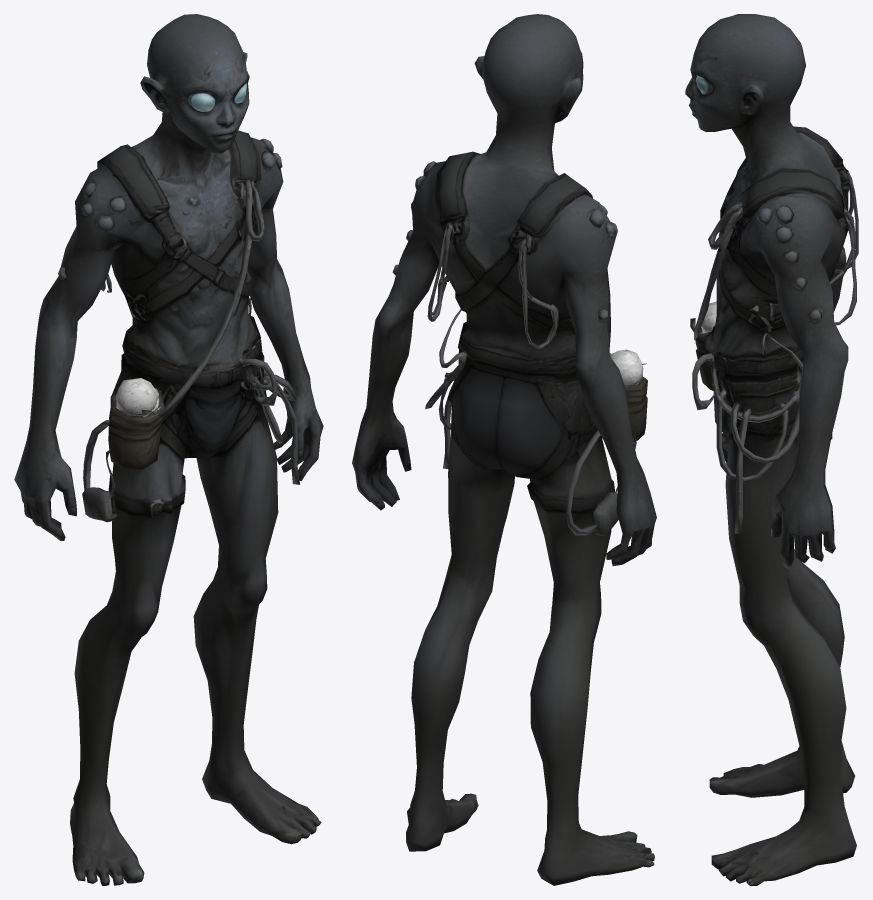
The picture shows the model from 3 angles, left to right: view 1: azimuth 30°, elevation 25°; view 2: azimuth 150°, elevation 25°; view 3: azimuth 270°, elevation 25°; orthographic projection. The views are drawn at different scales.
Visible parts, largest first — view 1: tripo_node_33072f8e-95a9-4eff-be2e-62a8787606d0; view 2: tripo_node_33072f8e-95a9-4eff-be2e-62a8787606d0; view 3: tripo_node_33072f8e-95a9-4eff-be2e-62a8787606d0.
Boxes of the visible parts, x1,y1,x2,y2 form: tripo_node_33072f8e-95a9-4eff-be2e-62a8787606d0: (14, 14, 323, 885); tripo_node_33072f8e-95a9-4eff-be2e-62a8787606d0: (352, 14, 656, 885); tripo_node_33072f8e-95a9-4eff-be2e-62a8787606d0: (685, 14, 858, 885).
Bounding box in the file's own units: 0.373 × 0.998 × 0.1934.
Materials: 1 (1 with a texture image).
